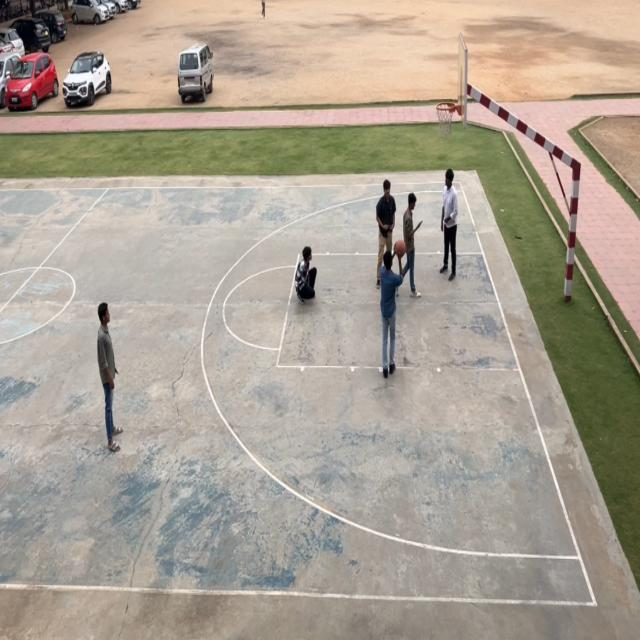basketball: (394, 236, 408, 261)
hoop: (436, 99, 456, 135)
